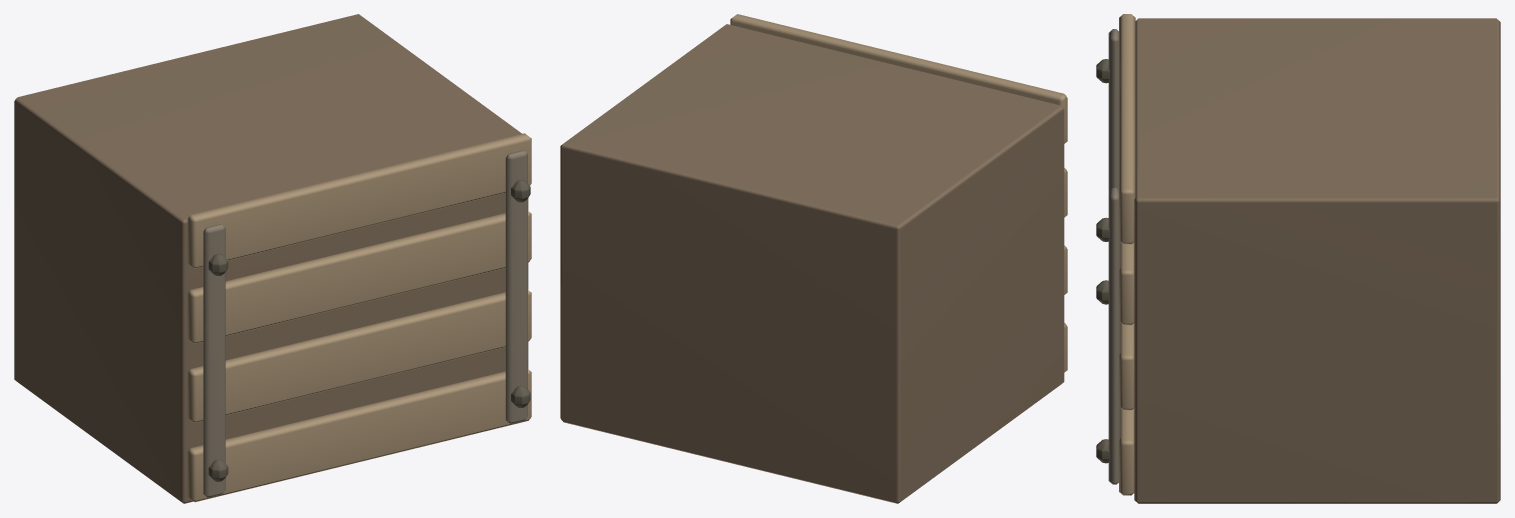
Rendered from salvage_crate_a.glb.
3 views of the same model, side by side, from view 1: azimuth 30°, elevation 25°; view 2: azimuth 150°, elevation 25°; view 3: azimuth 270°, elevation 25° (orthographic). The views are drawn at different scales.
Parts seen in each view (by area): view 1: salvage_crate_a LOD0; view 2: salvage_crate_a LOD0; view 3: salvage_crate_a LOD0.
Part boxes in pixels (box(x1,y1,x2,y2)): salvage_crate_a LOD0: box(14, 14, 531, 503); salvage_crate_a LOD0: box(560, 14, 1067, 503); salvage_crate_a LOD0: box(1096, 14, 1500, 503).
Size of what is drawn, in the model's own units: 0.92 by 0.735 by 0.8612.
